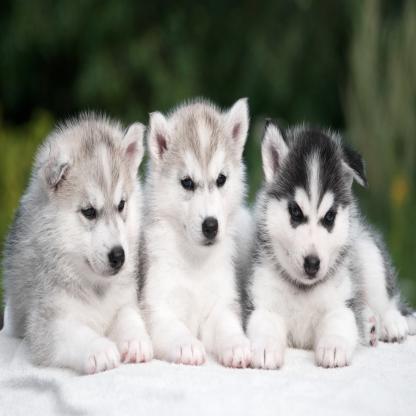dog: (245, 121, 404, 368), (3, 112, 152, 370), (144, 96, 253, 365)
